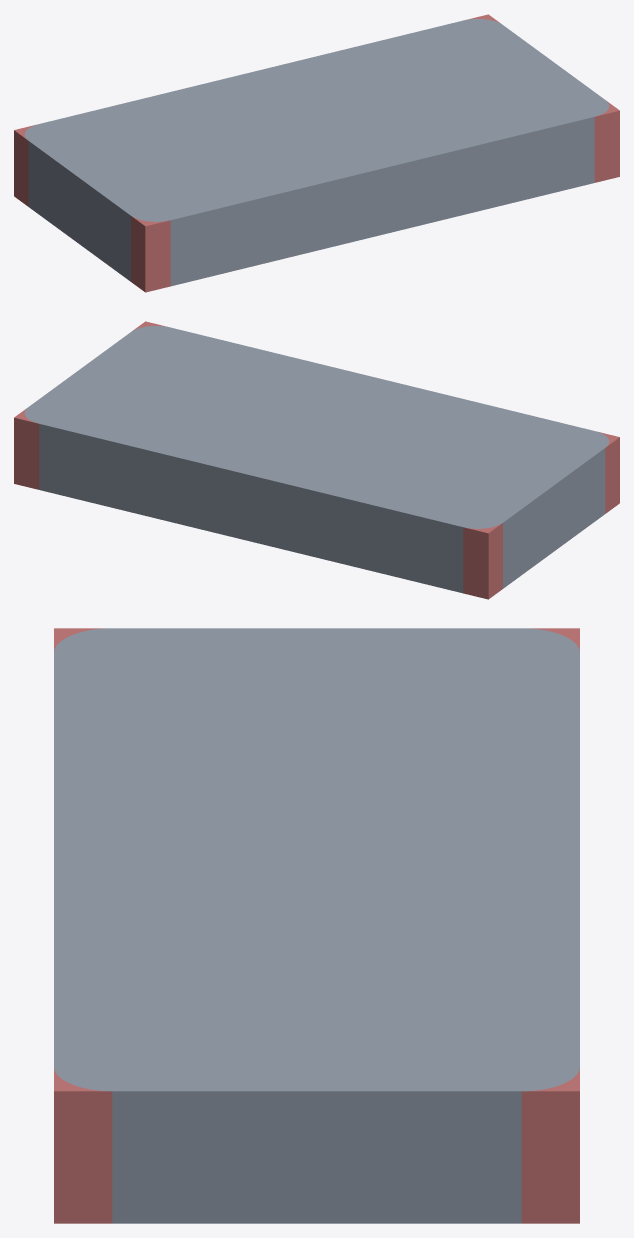
The model's file is step_02.glb.
3 renders of one model, top to bottom at view 1: azimuth 30°, elevation 25°; view 2: azimuth 150°, elevation 25°; view 3: azimuth 270°, elevation 25°, orthographic. The views are drawn at different scales.
Parts seen in each view (by area): view 1: part__base, removed__base; view 2: part__base, removed__base; view 3: part__base, removed__base.
Boxes of the visible parts, left/top/right/bottom form: part__base: left=24, top=19, right=609, bottom=286; removed__base: left=14, top=14, right=619, bottom=292; part__base: left=24, top=326, right=609, bottom=593; removed__base: left=14, top=321, right=619, bottom=599; part__base: left=54, top=628, right=579, bottom=1223; removed__base: left=54, top=628, right=579, bottom=1223.
Size of the model in its own units: 150 by 20 by 72.
